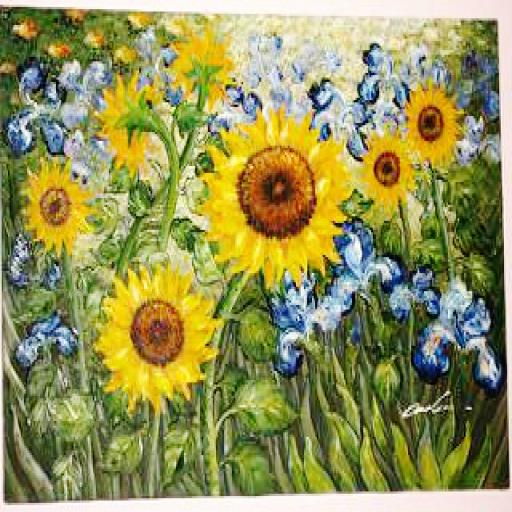sunflower: (206, 100, 346, 271), (93, 264, 219, 405), (14, 157, 90, 250), (355, 130, 416, 207), (405, 84, 461, 164)
